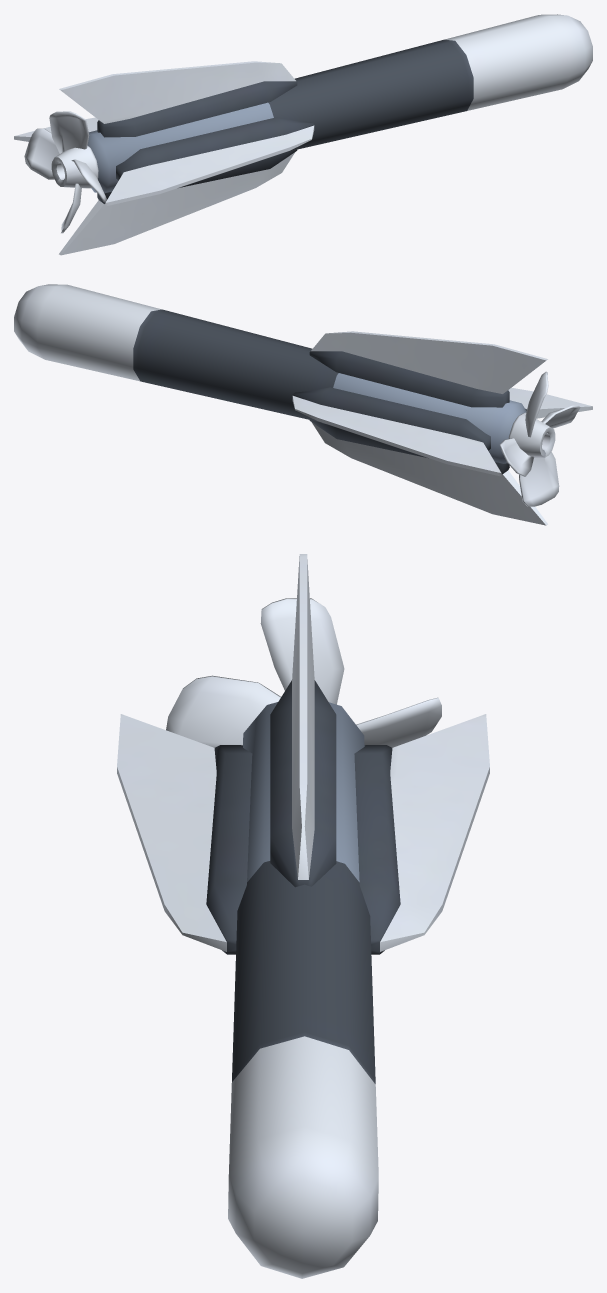
The model's file is Missile_Model.FBX.
3 renders of one model, top to bottom at view 1: azimuth 30°, elevation 25°; view 2: azimuth 150°, elevation 25°; view 3: azimuth 270°, elevation 25°, orthographic. The views are drawn at different scales.
Visible parts, largest first — view 1: missile; view 2: missile; view 3: missile.
Part boxes in pixels (<box>): missile: <box>14,14,592,255</box>; missile: <box>14,284,592,525</box>; missile: <box>117,554,489,1278</box>.
Size of the model in its own units: 545 by 165 by 166.
Materials: 1 (1 with a texture image).
